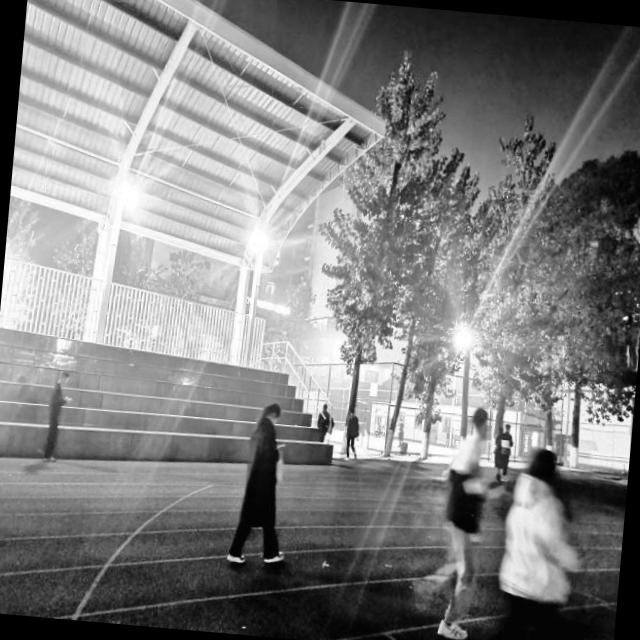Light: (90, 140, 169, 262), (219, 187, 288, 303), (436, 314, 481, 369)
Tree: (332, 73, 424, 456), (478, 126, 557, 464), (376, 175, 454, 463), (560, 336, 597, 472)
